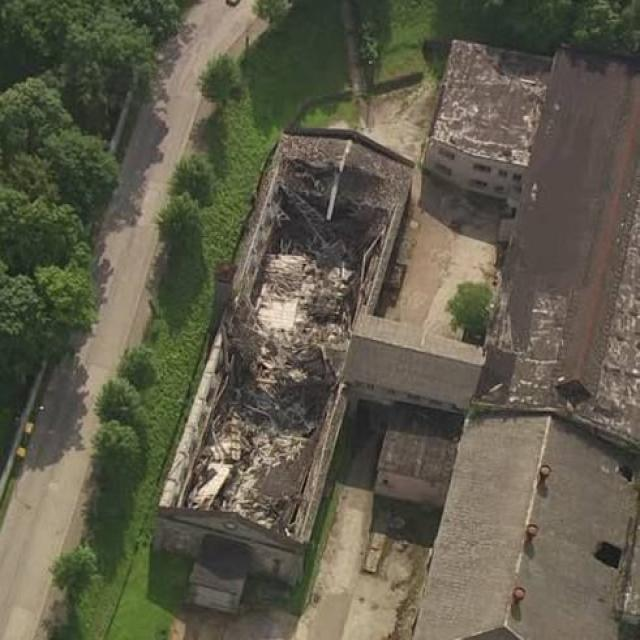collapsed_building: (143, 124, 407, 609)
